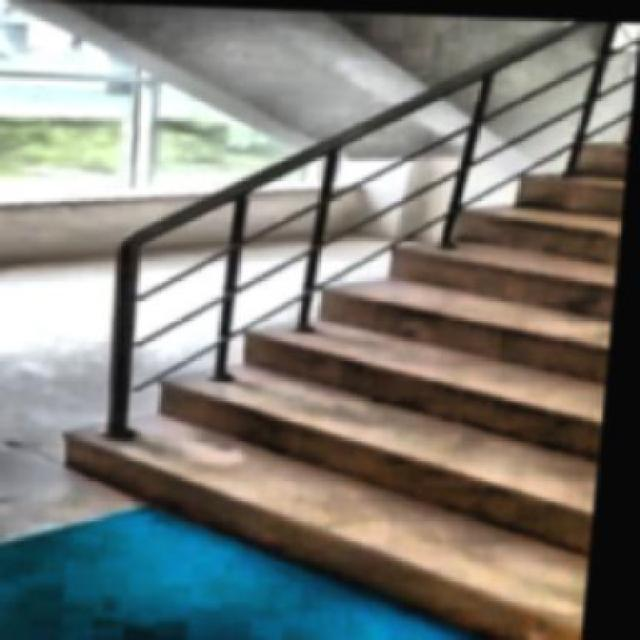stair: (8, 39, 636, 638)
